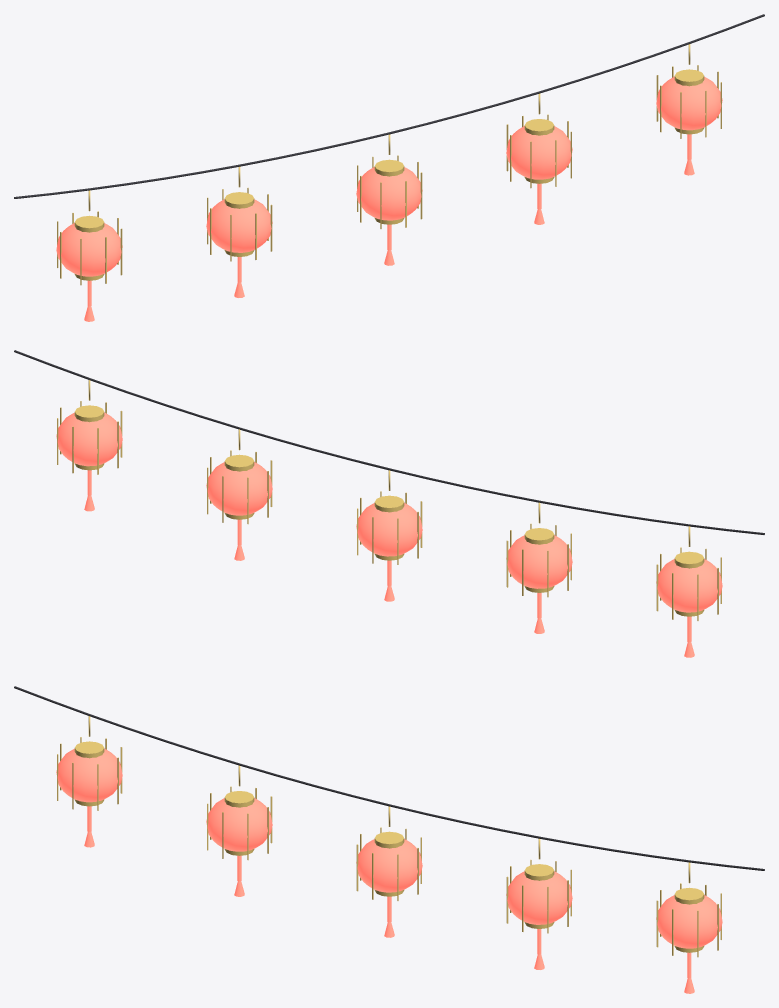
File: SM_RedLanterns.fbx
The picture shows the model from 3 angles, top to bottom: view 1: azimuth 30°, elevation 25°; view 2: azimuth 150°, elevation 25°; view 3: azimuth 330°, elevation 25°; orthographic projection.
Parts seen in each view (by area): view 1: SM_RedLanterns; view 2: SM_RedLanterns; view 3: SM_RedLanterns.
Part boxes in pixels (box(x1,y1,x2,y2)): SM_RedLanterns: box(14, 14, 764, 321); SM_RedLanterns: box(14, 350, 764, 657); SM_RedLanterns: box(14, 686, 764, 993).
Size of the model in its own units: 4.4 by 0.8857 by 0.342.
